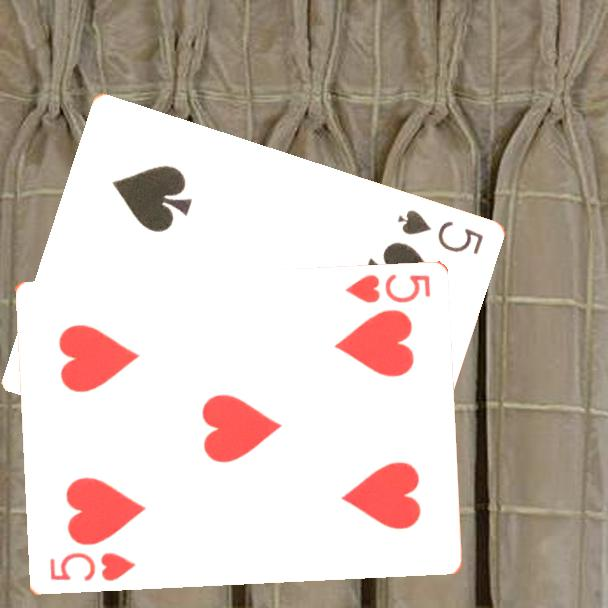h05: (341, 271, 433, 307), (46, 549, 137, 585)
s05: (393, 206, 486, 258)
